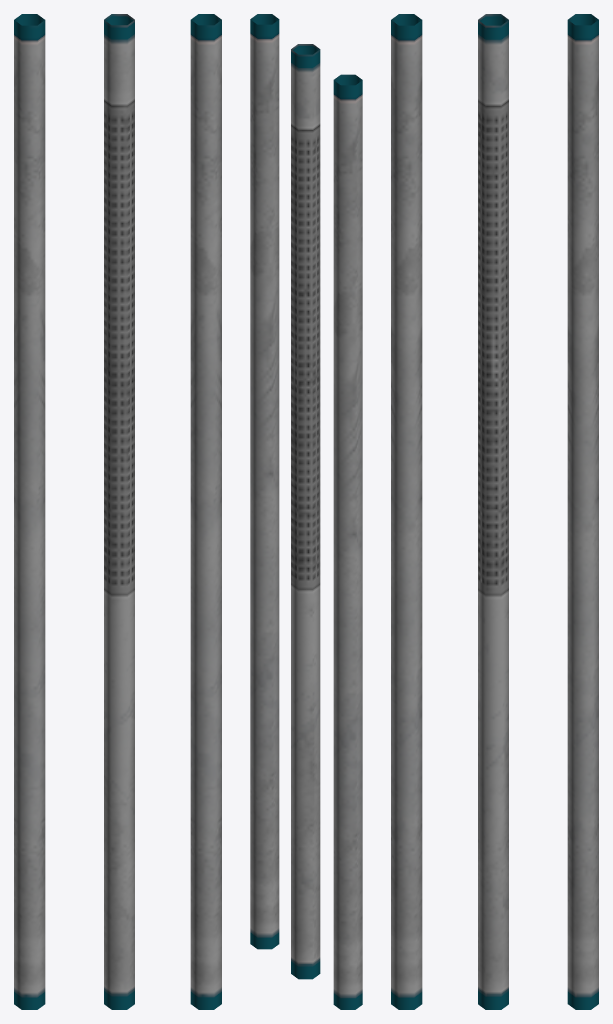
Rendered from CP_Pipe_A_2m_01.fbx.
3 renders of one model, left to right at view 1: azimuth 90°, elevation 25°; view 2: azimuth 210°, elevation 25°; view 3: azimuth 270°, elevation 25°, orthographic. The views are drawn at different scales.
Visible parts, largest first — view 1: CP_Pipe_A_2m_01; view 2: CP_Pipe_A_2m_01; view 3: CP_Pipe_A_2m_01.
Boxes of the visible parts, bbox=[...] form: CP_Pipe_A_2m_01: bbox=[14, 14, 221, 1009]; CP_Pipe_A_2m_01: bbox=[250, 14, 362, 1009]; CP_Pipe_A_2m_01: bbox=[391, 14, 598, 1009].
Size of the model in its own units: 5.04 by 200 by 38.29.
